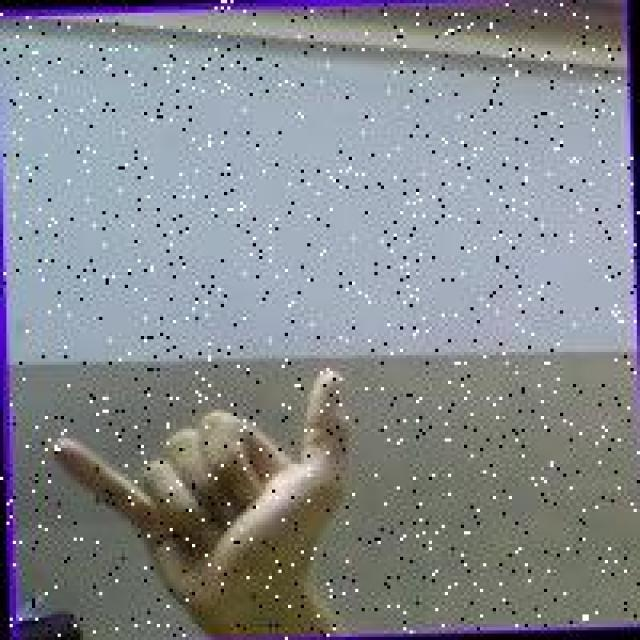Y: (48, 360, 362, 613)
